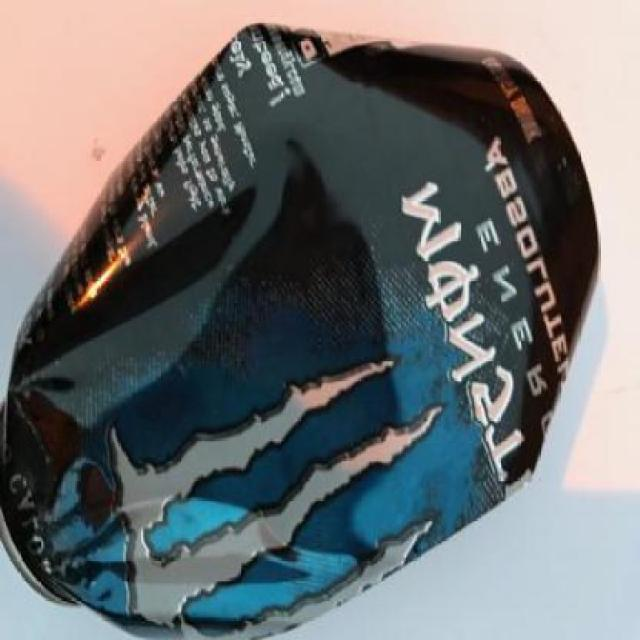METAL: (1, 21, 602, 637)
